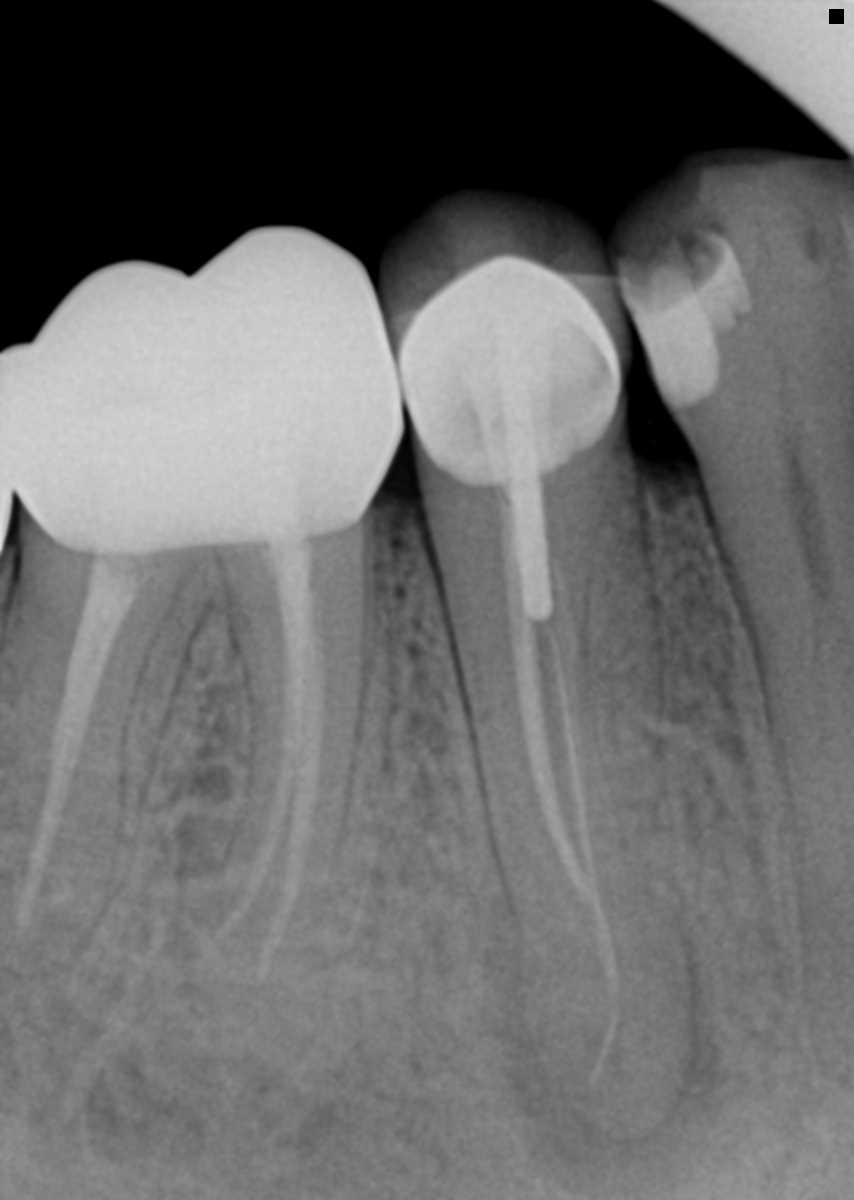Apical Lesion: (481, 906, 727, 1197)
Distal Root: (0, 576, 199, 975)
Main Canal: (784, 451, 839, 607)
Main Root: (420, 497, 700, 1141), (702, 430, 854, 1024)
Mesial Root: (215, 554, 363, 946)
Root Canal Filling: (507, 544, 616, 1079), (212, 539, 325, 980), (15, 559, 145, 933)
